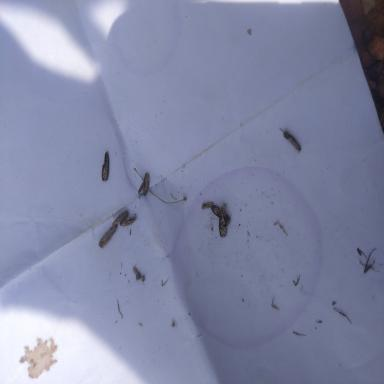pbw: (280, 127, 302, 151), (98, 224, 117, 248), (211, 204, 231, 222), (112, 210, 129, 225), (138, 173, 149, 196), (219, 207, 226, 237), (120, 215, 137, 226), (102, 151, 108, 181), (132, 267, 142, 280), (202, 202, 212, 208)
